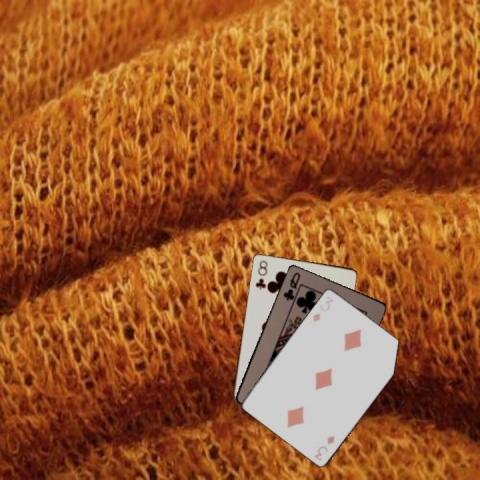3d: (310, 292, 335, 322), (311, 432, 336, 461)
8c: (252, 257, 269, 291)
Qc: (280, 269, 301, 302)
